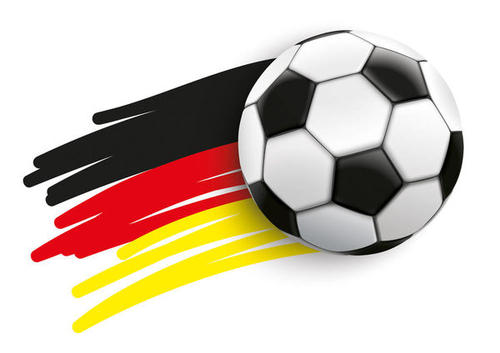football: (236, 26, 468, 259)
